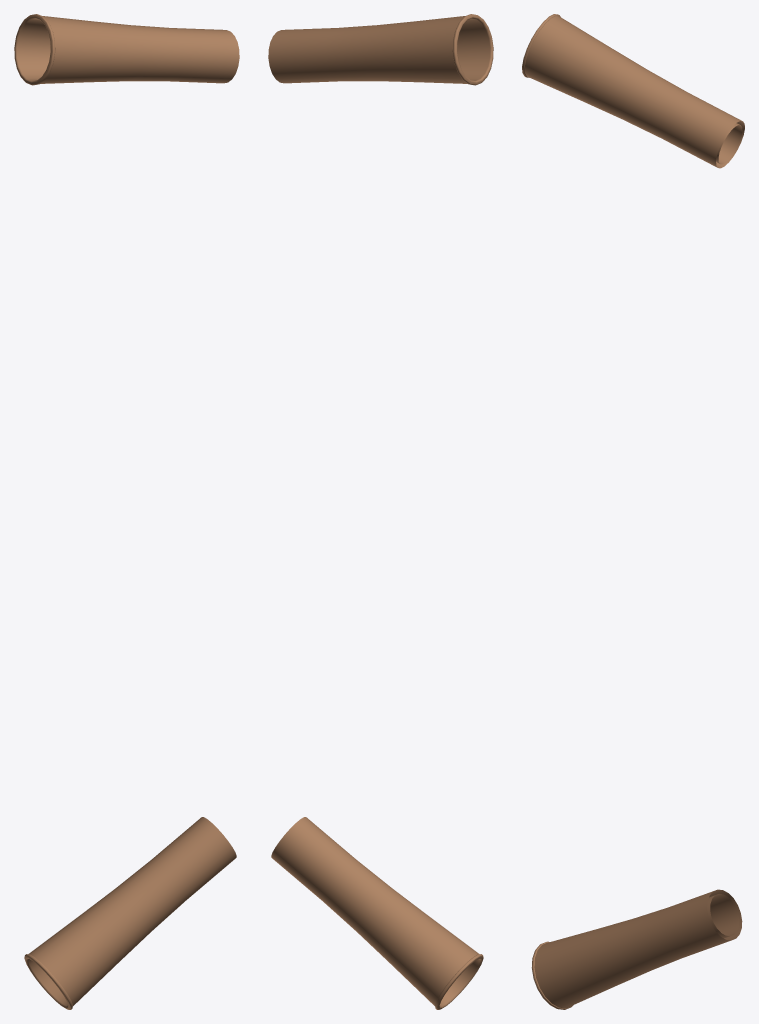
File: SM_DaoGuan.fbx
3 views of the same model, side by side, from view 1: azimuth 30°, elevation 25°; view 2: azimuth 150°, elevation 25°; view 3: azimuth 330°, elevation 25° (orthographic).
Parts seen in each view (by area): view 1: SM_DaoGuan; view 2: SM_DaoGuan; view 3: SM_DaoGuan.
Part boxes in pixels (bbox=[...]): SM_DaoGuan: bbox=[14, 14, 239, 1009]; SM_DaoGuan: bbox=[268, 14, 493, 1009]; SM_DaoGuan: bbox=[522, 14, 744, 1009].
Bounding box in the file's own units: 0.5353 × 2.48 × 0.1618.
